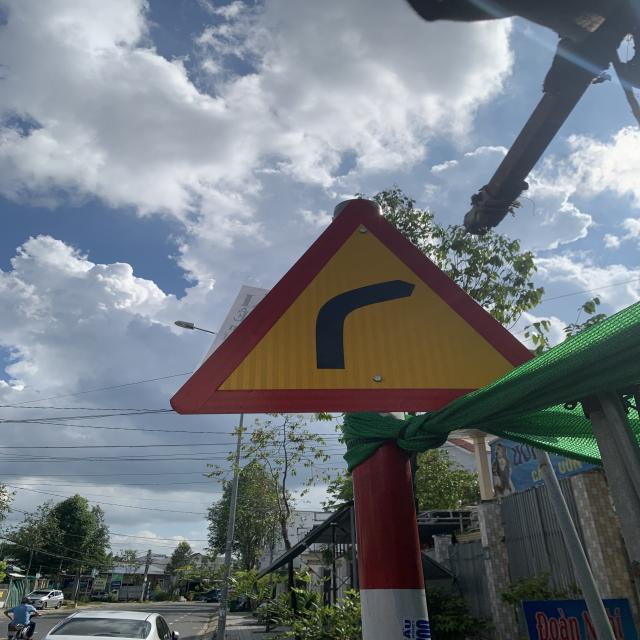Duong_Nguoi_Di_Bo_Cat_Ngang: (170, 195, 553, 414)
